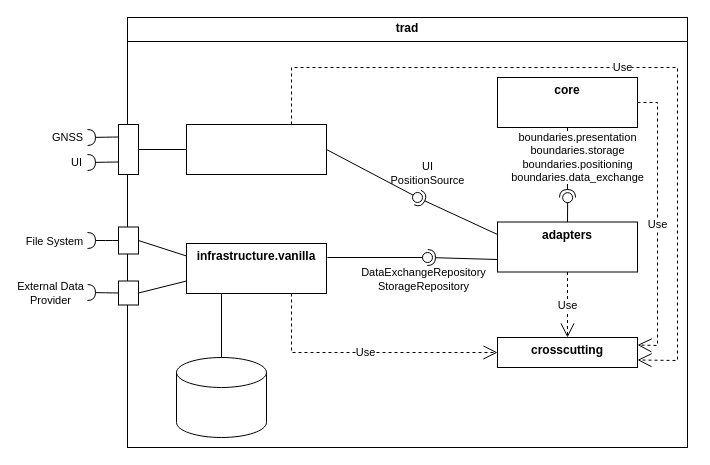
The diagram is 710 pixels wide and 465 high, and some of its shapes have lost their labels. Each missing label, with the box of its shape:
data storage: (176, 356, 266, 438)
infrastructure.flutter: (186, 124, 326, 174)
